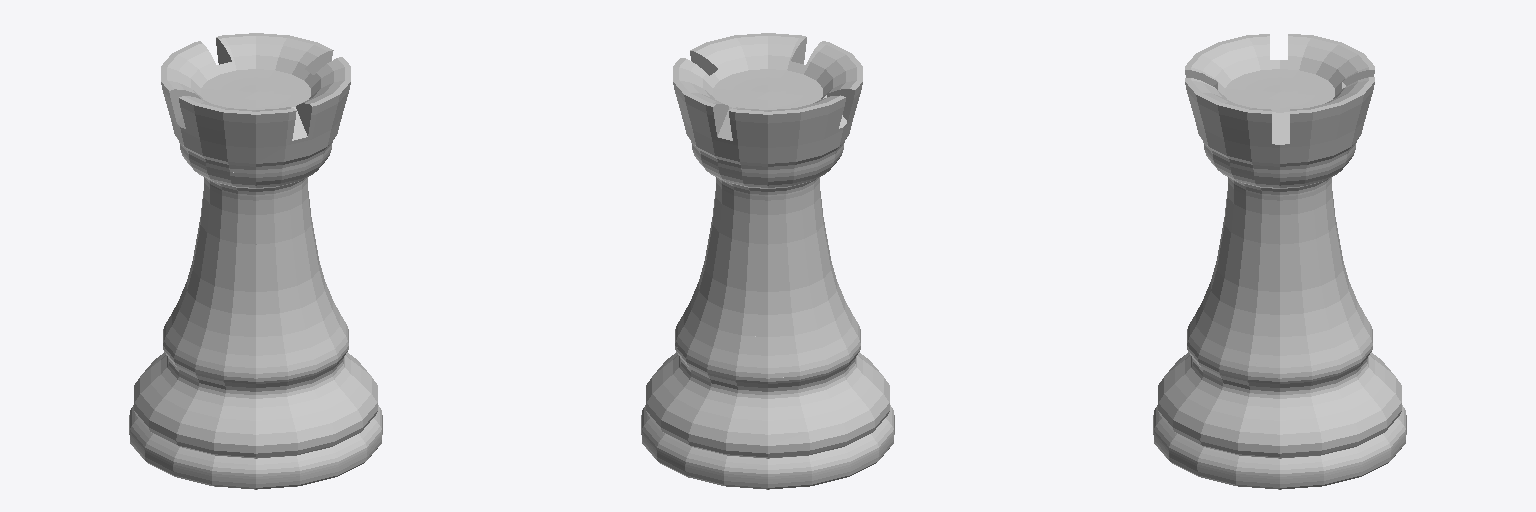
Rendered from rook_b_1.obj.
The picture shows the model from 3 angles: view 1: azimuth 30°, elevation 25°; view 2: azimuth 150°, elevation 25°; view 3: azimuth 270°, elevation 25°; orthographic projection.
Visible parts, largest first — view 1: rook_b_1; view 2: rook_b_1; view 3: rook_b_1.
Boxes of the visible parts, box(x1,y1,x2,y2) form: rook_b_1: box(129, 33, 382, 489); rook_b_1: box(641, 33, 894, 489); rook_b_1: box(1153, 34, 1406, 489).
Size of the model in its own units: 3.32 by 5.2 by 3.27.